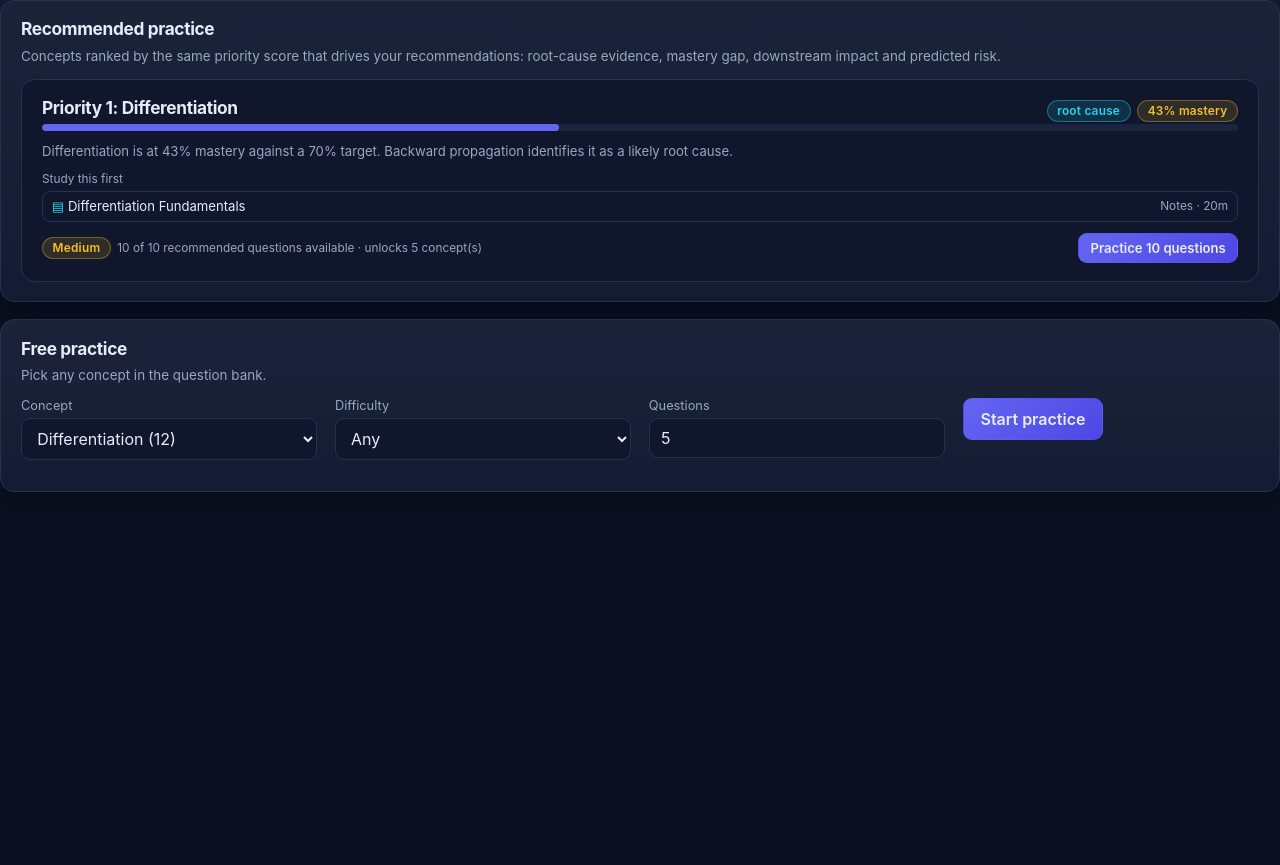
Practice page › serves questions without leaking answers and submits what the student picked
The image size is (1280, 865).
What coordinates should you click on to do the following:
click the button "Practice 10 questions"
I would click on:
 (1158, 248)
Its box is [1078,233,1238,263].
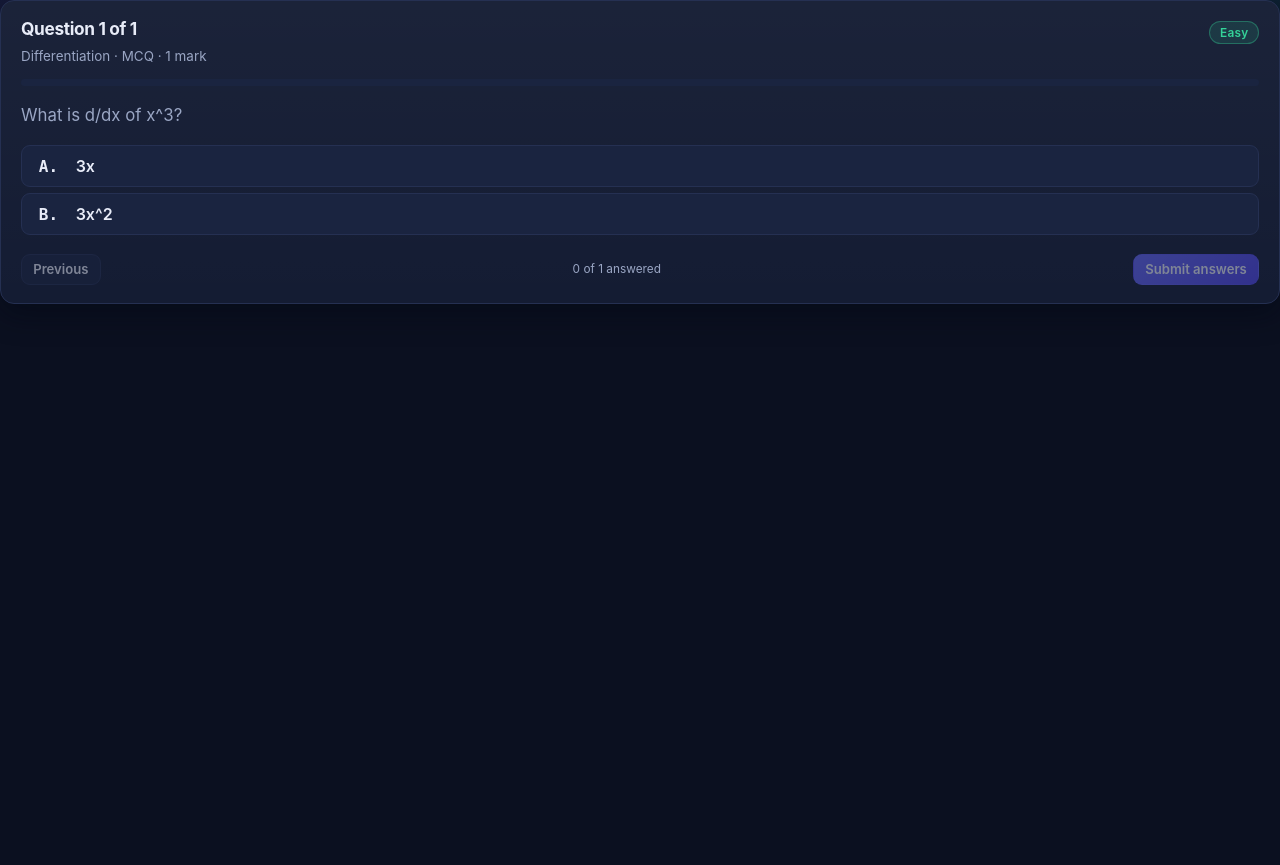
Check: the text "What is d/dx of x^3?" is shown, box [21,104,182,124]
What coordinates should you click on to do the following:
click the button "B. 3x^2"
I would click on:
 (94, 214)
Its box is [21,193,1259,235].
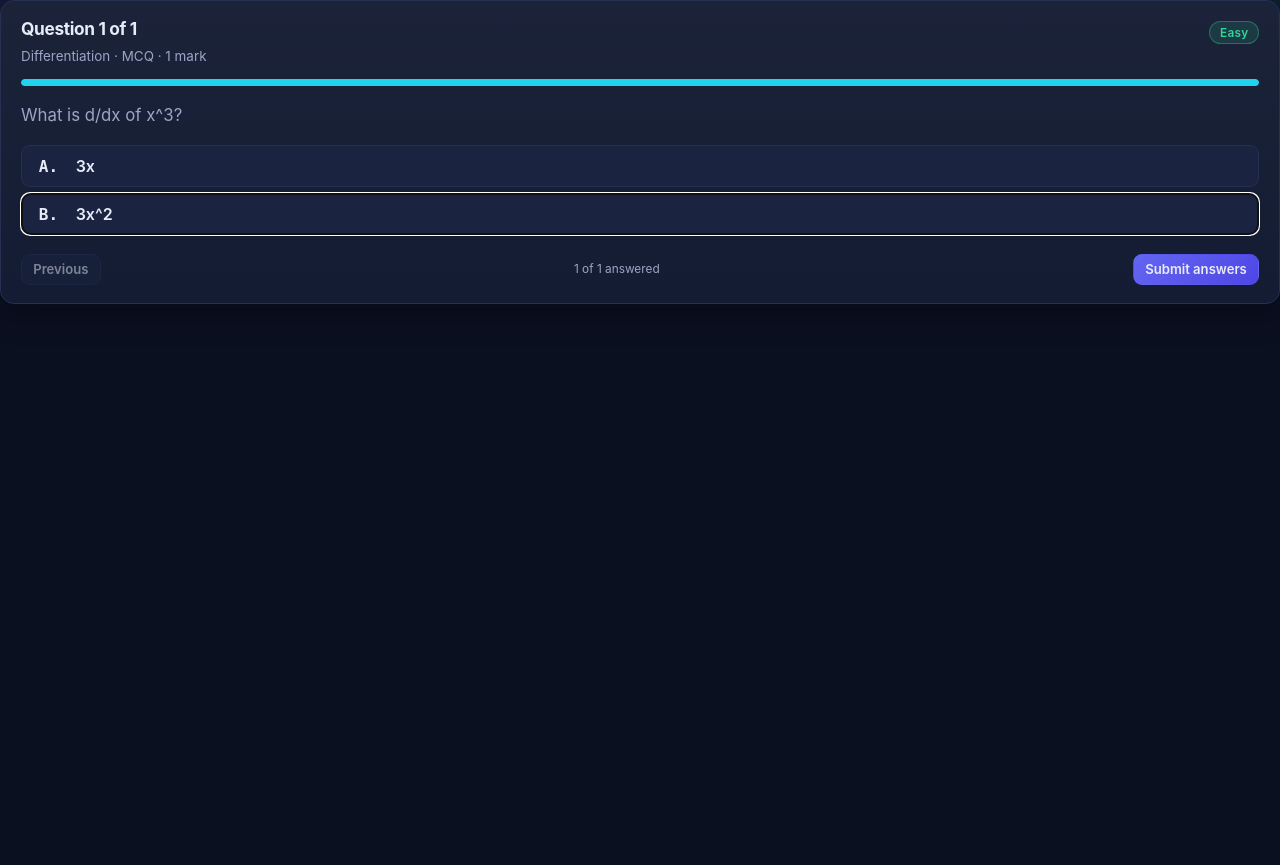
What coordinates should you click on to do the following:
click the button "Submit answers"
I would click on:
 (1196, 270)
Its box is [1133,254,1259,285].
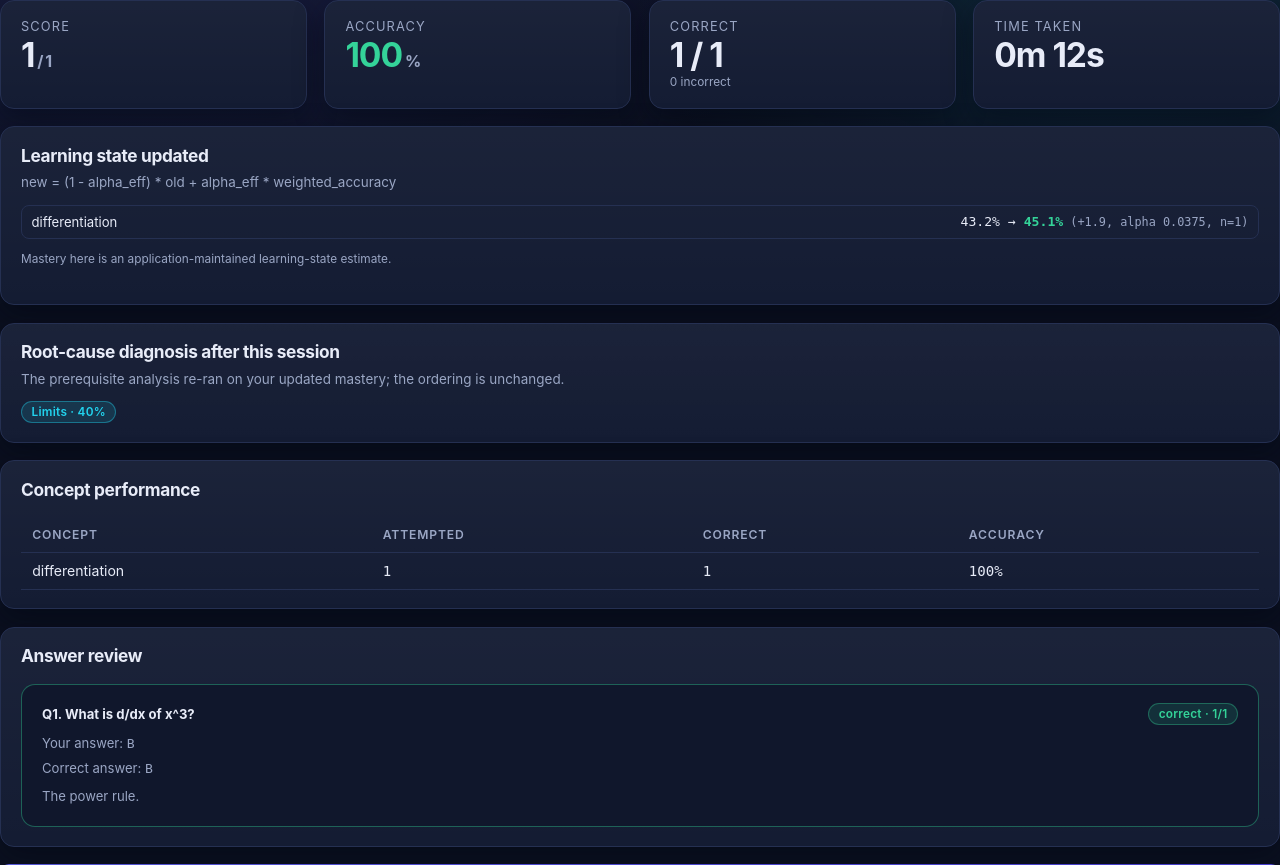
Check: the text "100" is shown, box [345,34,402,75]
Check: the text "43.2% → 45.1% (+1.9, alpha 0.0375, n=1)" is shown, box [960,214,1248,229]
Check: the text "The power rule." is shown, box [42,788,139,804]
